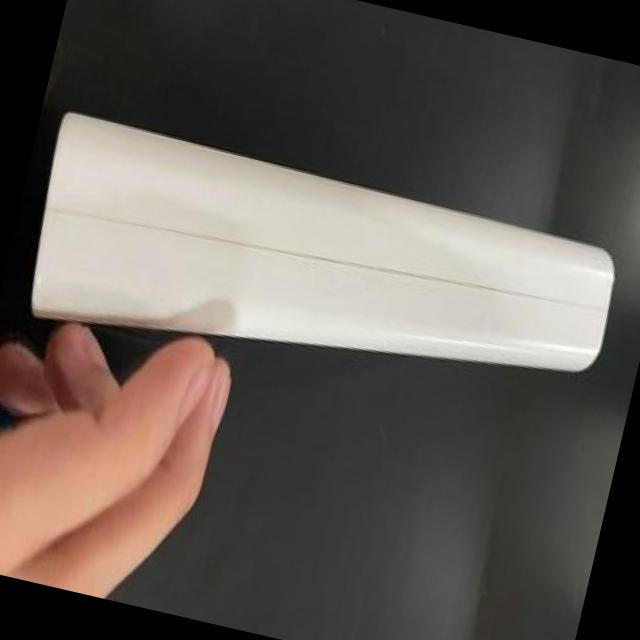power_bank: (4, 38, 640, 460)
